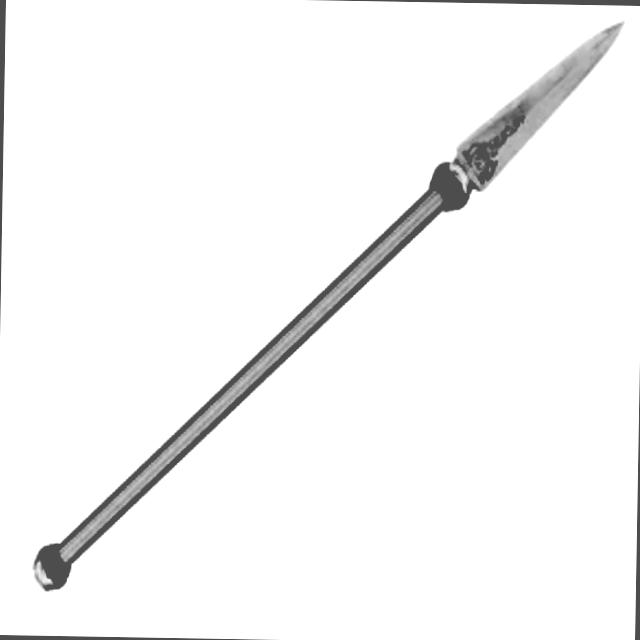spear: (25, 1, 638, 612)
